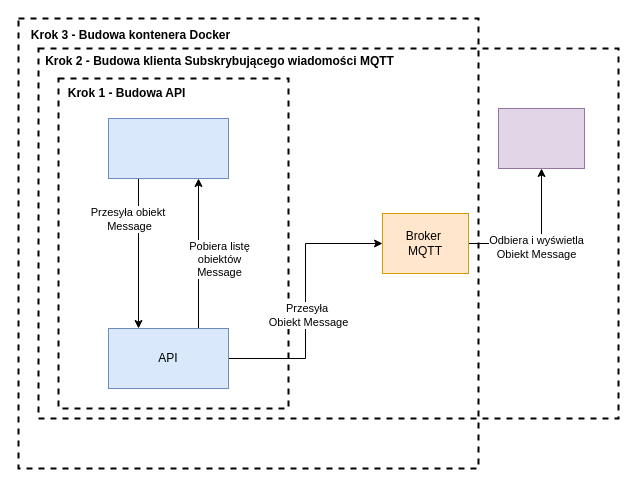
Some shapes in this 636 by 486 pixel diagram are drawn without their labels. The box of each missing label's shape, as (x1, y1, x2, y2) in pixels:
Client: (108, 118, 228, 178)
Message Client: (498, 108, 584, 168)
